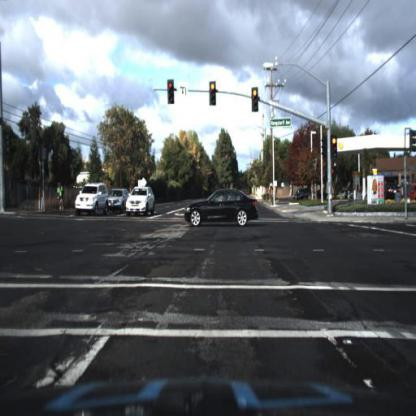biker: (56, 182, 66, 216)
car: (181, 184, 263, 235), (76, 182, 110, 219), (124, 186, 155, 218), (107, 184, 127, 215), (405, 179, 416, 202)
trafficLight-Red: (251, 87, 260, 114), (210, 78, 218, 108), (331, 137, 339, 159), (209, 80, 215, 107), (332, 135, 338, 148)
trafficLight-RedLeft: (165, 79, 173, 104)
